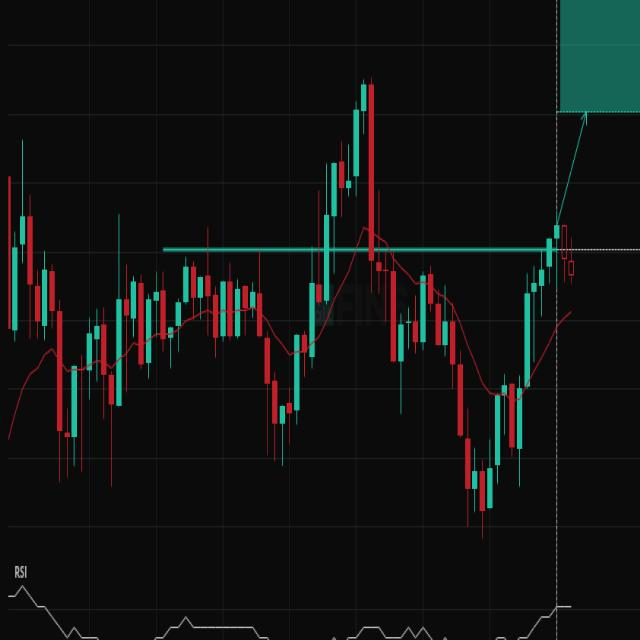Resistance-breakout: (60, 76, 376, 450), (368, 59, 374, 65)
